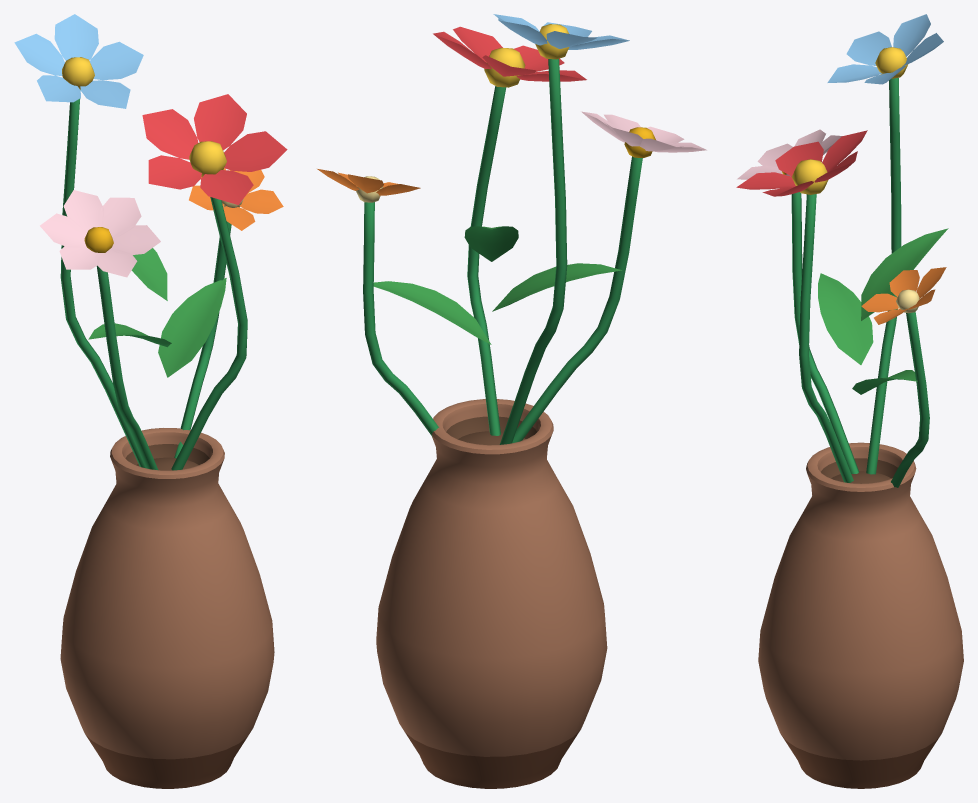
The model's file is planta_flores_vaso_ceramica.glb.
3 renders of one model, left to right at view 1: azimuth 30°, elevation 25°; view 2: azimuth 150°, elevation 25°; view 3: azimuth 270°, elevation 25°, orthographic. The views are drawn at different scales.
Visible parts, largest first — view 1: planta_flores_vaso_ceramica; view 2: planta_flores_vaso_ceramica; view 3: planta_flores_vaso_ceramica.
Part boxes in pixels (box(x1,y1,x2,y2)): planta_flores_vaso_ceramica: box(14, 14, 287, 788); planta_flores_vaso_ceramica: box(317, 14, 706, 788); planta_flores_vaso_ceramica: box(736, 14, 963, 788).
Bounding box in the file's own units: 0.1881 × 0.4742 × 0.1403.
Materials: 1 (1 with a texture image).
